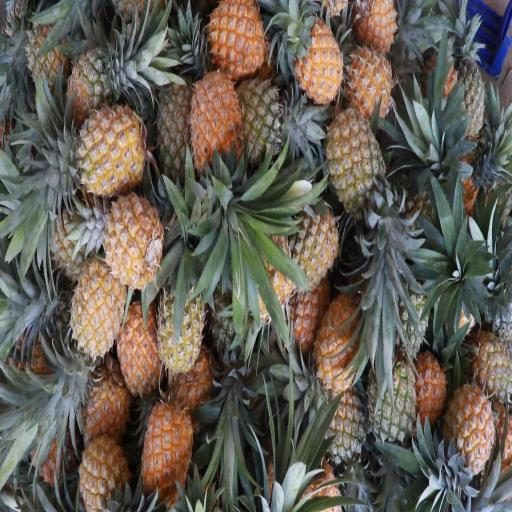------------------------------: (322, 91, 388, 220), (59, 41, 134, 131), (157, 267, 207, 383), (227, 71, 287, 167)
Pineapple - v8 v1: (56, 104, 150, 205), (181, 68, 244, 198), (100, 181, 164, 294), (139, 389, 196, 512), (67, 254, 129, 366), (308, 282, 366, 399), (443, 373, 493, 488), (283, 198, 340, 296), (287, 13, 344, 110), (112, 297, 163, 397), (203, 0, 263, 83), (337, 48, 400, 125), (73, 432, 131, 512)
